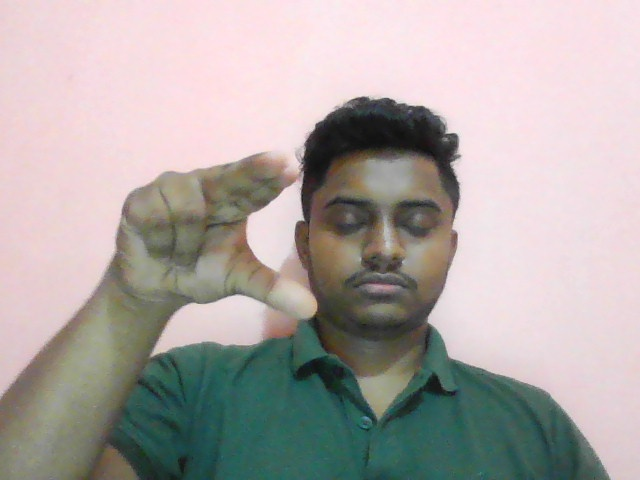No: (113, 142, 319, 328)
